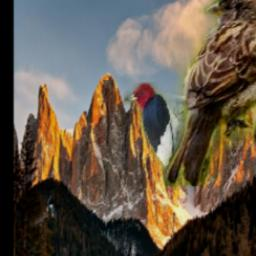Sparrow: (166, 0, 256, 186)
Woodpecker: (124, 82, 187, 191)
